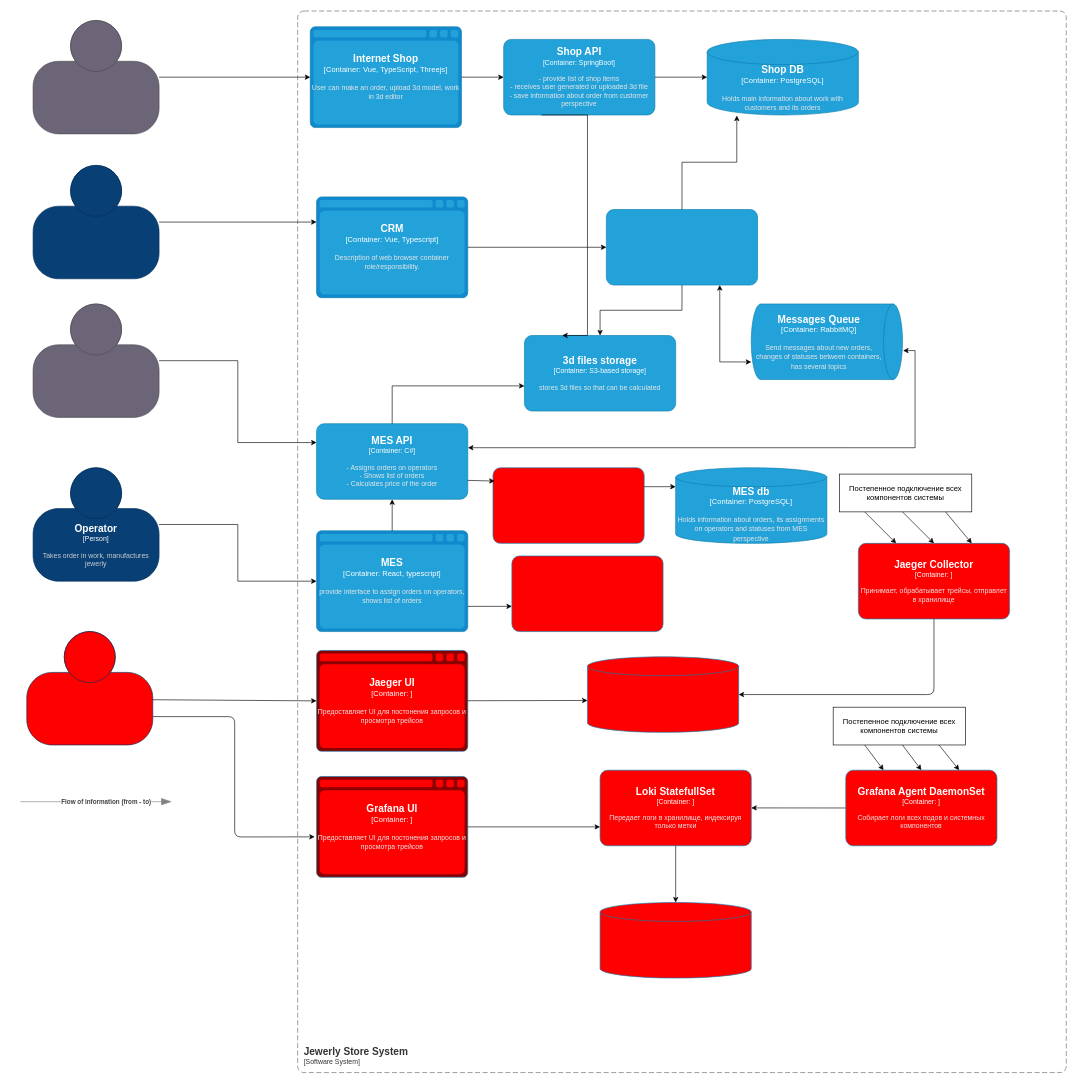
Some shapes in this 1077 by 1084 pixel diagram are drawn without their labels. Each missing label, with the centre of its shape:
API user [Person] Description of external person.: point (95, 360)
CRM API [Container: SpringBoot] Description of container role/responsibility.: point (682, 247)
Customer [Person] Description of external person.: point (95, 77)
Developer [Person] Просмотр трейсов: point (89, 688)
Jaeger DB [Container: Cassandra, Elasticsearch] Хранение трейсов: point (663, 694)
MES API CACHE [Container: Redis] Кеш данных MES API: point (568, 505)
MES UI CACHE [Container: Redis] Кеш данных MES UI: point (587, 593)
S3 Storage [Container: S3] Хранение логов: point (675, 940)
Seller [Person] Operates with order, confirms manufacturing for the user: point (95, 222)
